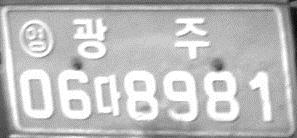0: (18, 67, 53, 119)
1: (243, 70, 282, 123)
6: (56, 69, 91, 120)
8: (201, 70, 240, 122), (122, 68, 159, 121)
9: (162, 69, 199, 123)
광주_D: (72, 16, 211, 59)
다: (93, 74, 121, 115)
영: (18, 18, 54, 58)
